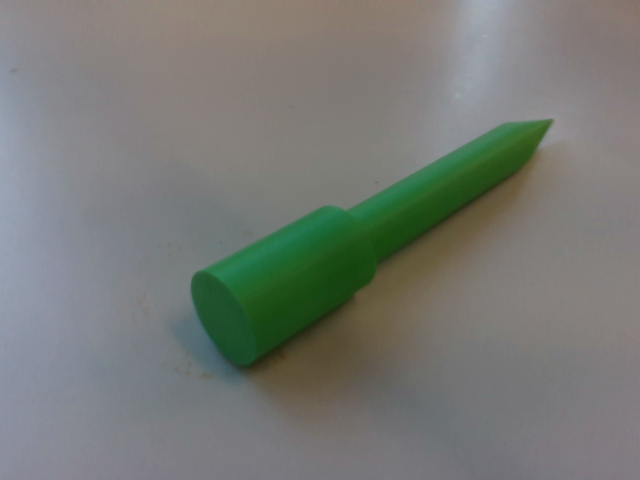Probe: (185, 108, 562, 379)
